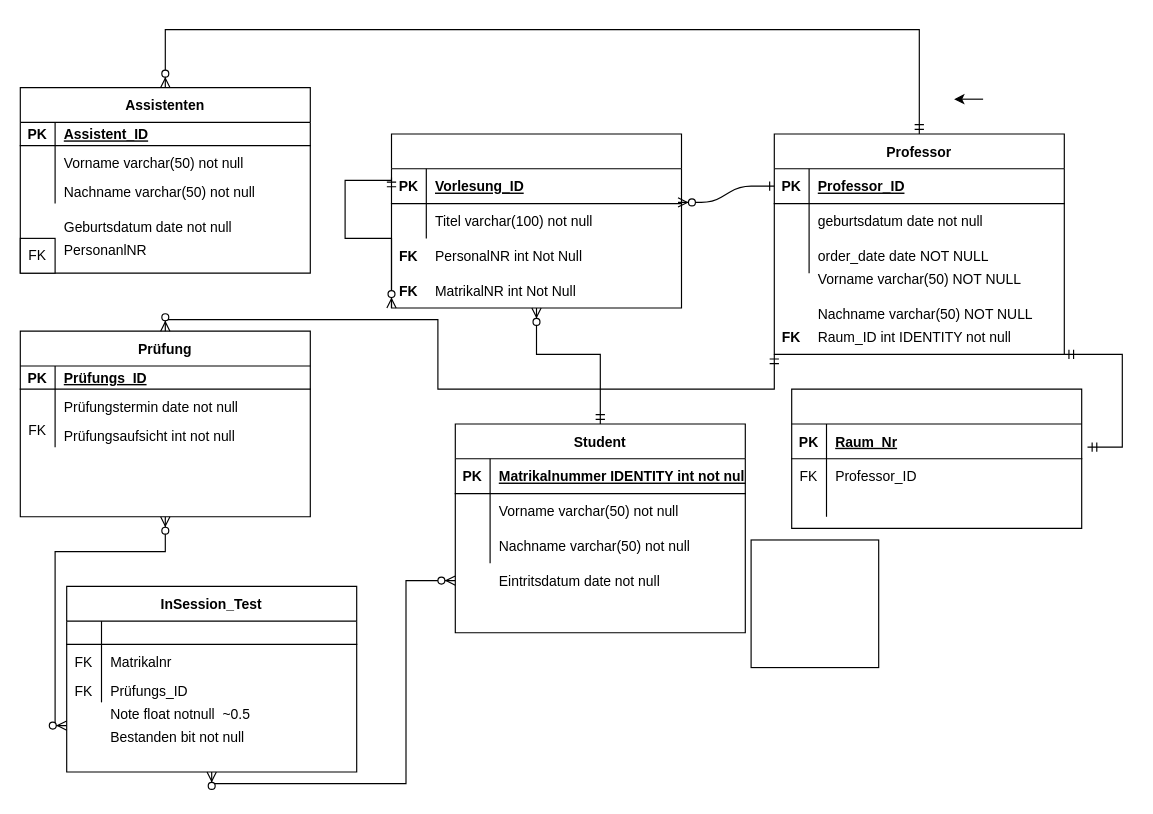
Image size: 1153x814. Some labels were removed from this diagram. Each missing label, with the box of its shape:
Hörsaal: (791, 388, 1082, 528)
Notizen: DIe Studenten müssen gelöscht werden. (Prüfungen auch) (DELETE CASCADE): (750, 539, 879, 668)
Vorlesungen: (390, 133, 682, 308)
